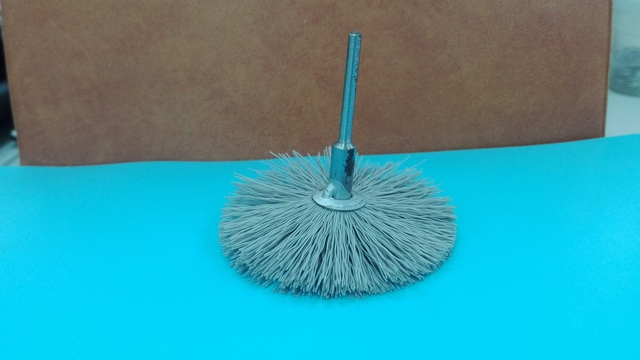TOOL: (158, 23, 495, 317), (216, 67, 470, 311), (222, 137, 472, 308)
